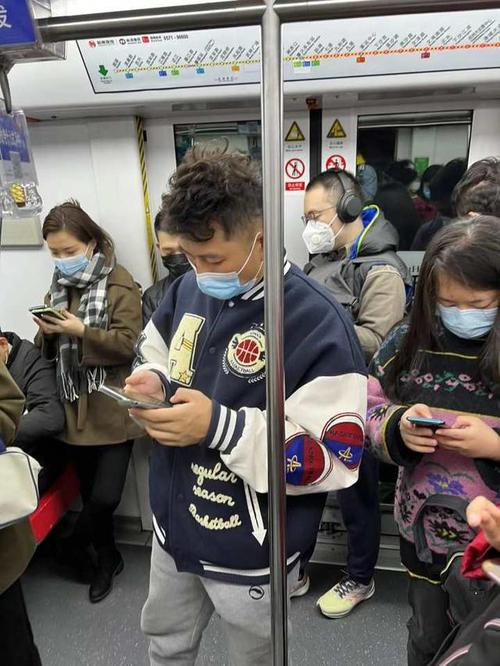mask: (177, 204, 263, 301), (436, 253, 500, 344), (299, 185, 352, 254), (44, 224, 97, 277)
